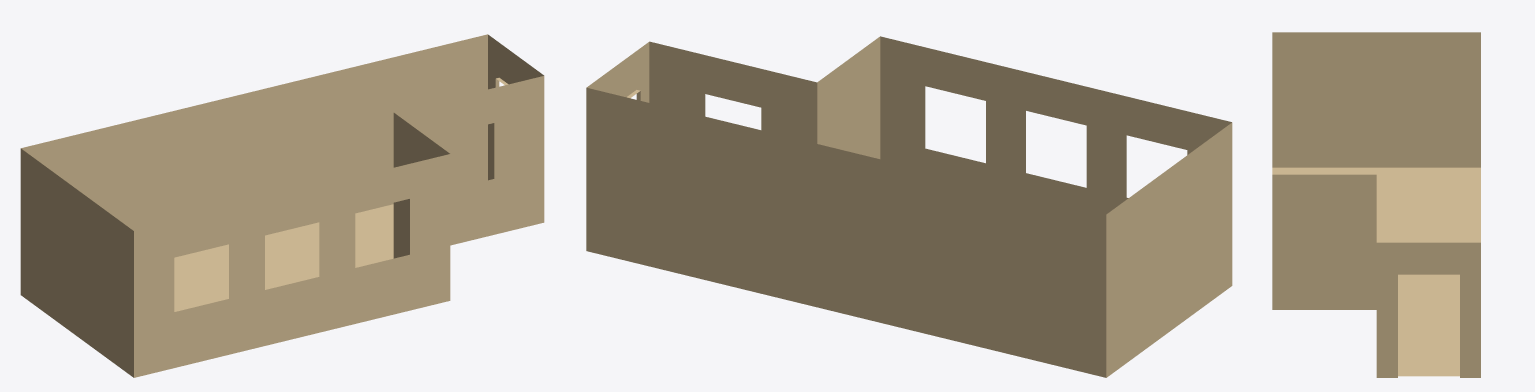
File: Bld_R_low_L3_A.fbx
3 views of the same model, side by side, from view 1: azimuth 30°, elevation 25°; view 2: azimuth 150°, elevation 25°; view 3: azimuth 270°, elevation 25° (orthographic). The views are drawn at different scales.
Parts seen in each view (by area): view 1: Bld_R_low_L3_A_LOD0; view 2: Bld_R_low_L3_A_LOD0; view 3: Bld_R_low_L3_A_LOD0.
Part boxes in pixels (bbox=[...]): Bld_R_low_L3_A_LOD0: bbox=[20, 34, 544, 377]; Bld_R_low_L3_A_LOD0: bbox=[586, 36, 1232, 377]; Bld_R_low_L3_A_LOD0: bbox=[1272, 32, 1480, 377].
Size of what is drawn, in the model's own units: 1400 by 473 by 698.
1 material, 1 textured.
